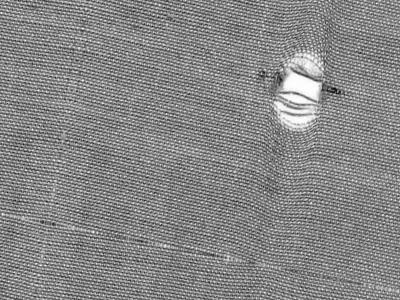hole: (269, 49, 330, 134)
